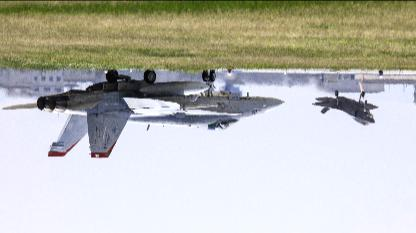F15: (2, 68, 286, 158)
F22: (313, 90, 381, 126)
